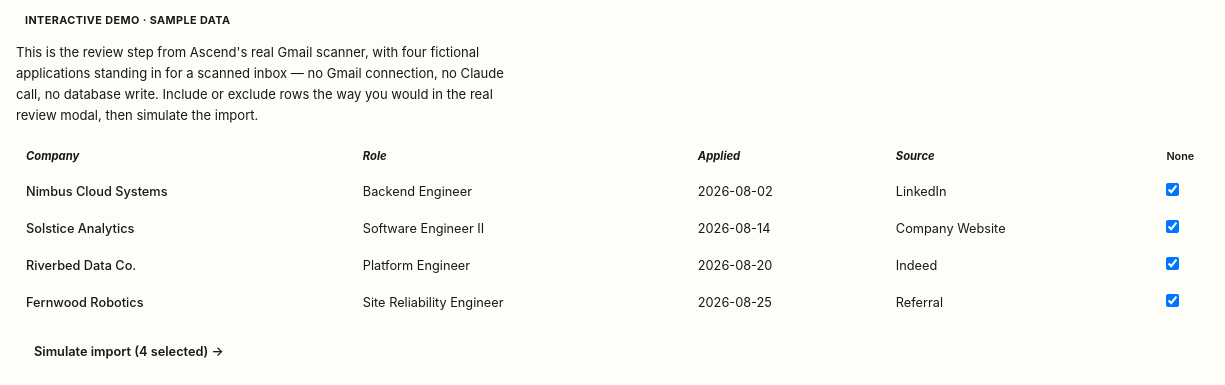
Test: AscendDemo › deselecting everything reports nothing would be imported
The image size is (1225, 385).
Click the button "None": [1180, 156] box [1166, 150, 1194, 163]
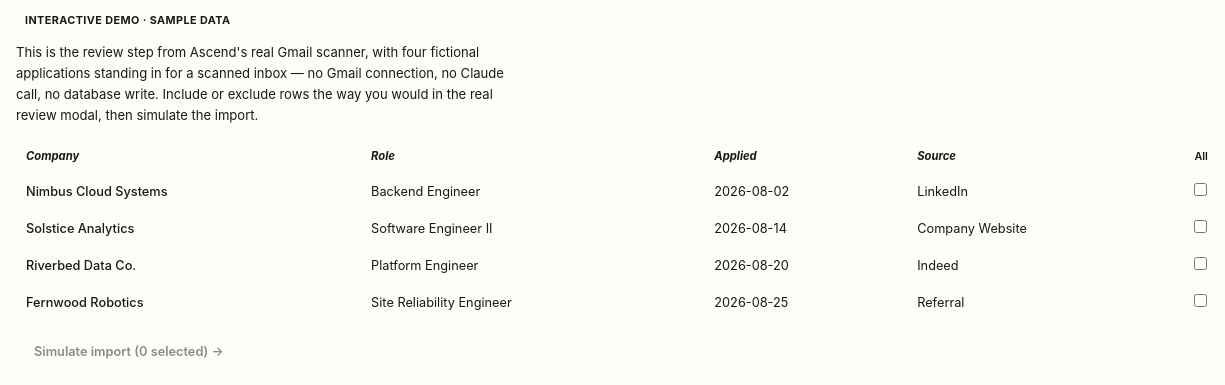
Expected: the button "Simulate import (0 selected) →" is disabled, [16, 335, 242, 368]
